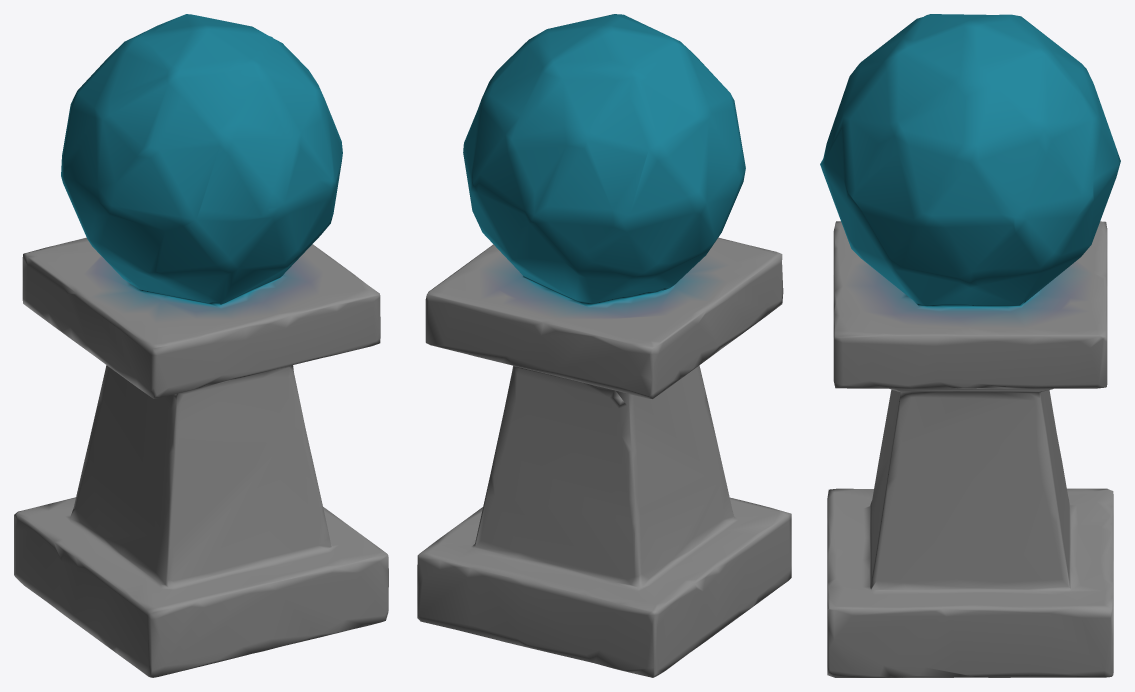
File: gen3d-orb-pedestal-lod0.glb
3 views of the same model, side by side, from view 1: azimuth 30°, elevation 25°; view 2: azimuth 150°, elevation 25°; view 3: azimuth 270°, elevation 25° (orthographic). The views are drawn at different scales.
Visible parts, largest first — view 1: part_0; view 2: part_0; view 3: part_0.
Part boxes in pixels (bbox=[...]): part_0: bbox=[14, 14, 388, 677]; part_0: bbox=[417, 14, 791, 677]; part_0: bbox=[820, 14, 1120, 677].
Bounding box in the file's own units: 0.4378 × 0.9971 × 0.4575.
